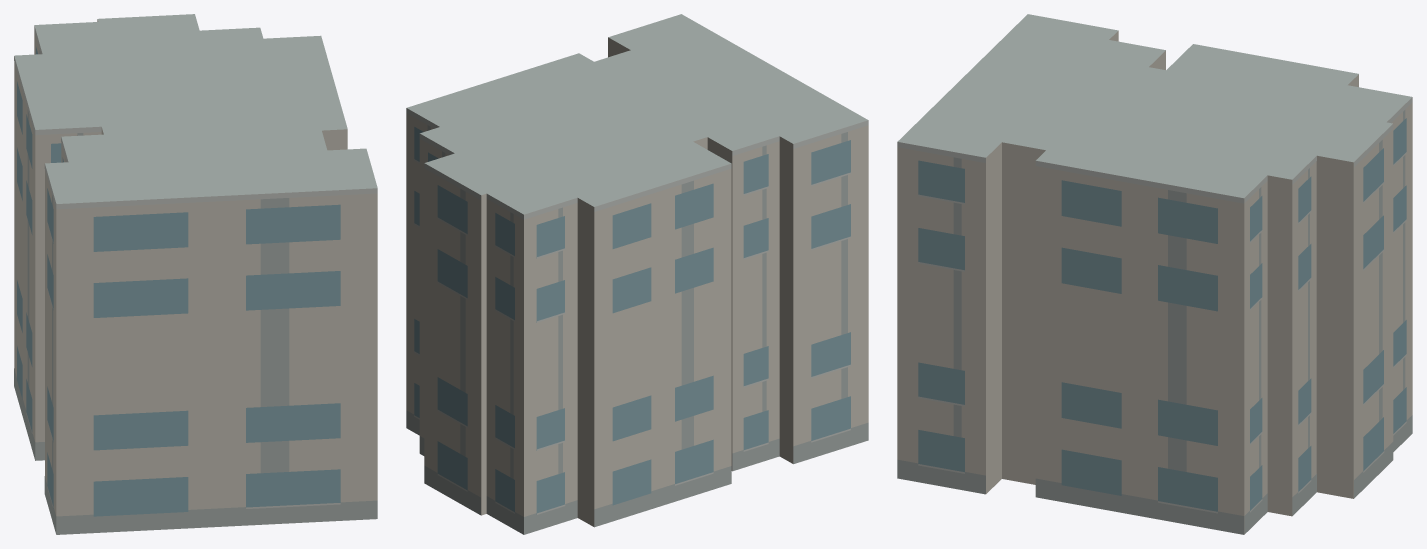
The model's file is survey-upis-32611428.glb.
3 renders of one model, left to right at view 1: azimuth 30°, elevation 25°; view 2: azimuth 150°, elevation 25°; view 3: azimuth 270°, elevation 25°, orthographic. The views are drawn at different scales.
Visible parts, largest first — view 1: survey-upis-32611428.tmp; view 2: survey-upis-32611428.tmp; view 3: survey-upis-32611428.tmp.
Part boxes in pixels (left/top/right/bottom): survey-upis-32611428.tmp: left=14, top=14, right=377, bottom=534; survey-upis-32611428.tmp: left=406, top=14, right=868, bottom=534; survey-upis-32611428.tmp: left=897, top=14, right=1412, bottom=534.
Bounding box in the file's own units: 17.97 × 15.3 × 21.23.
